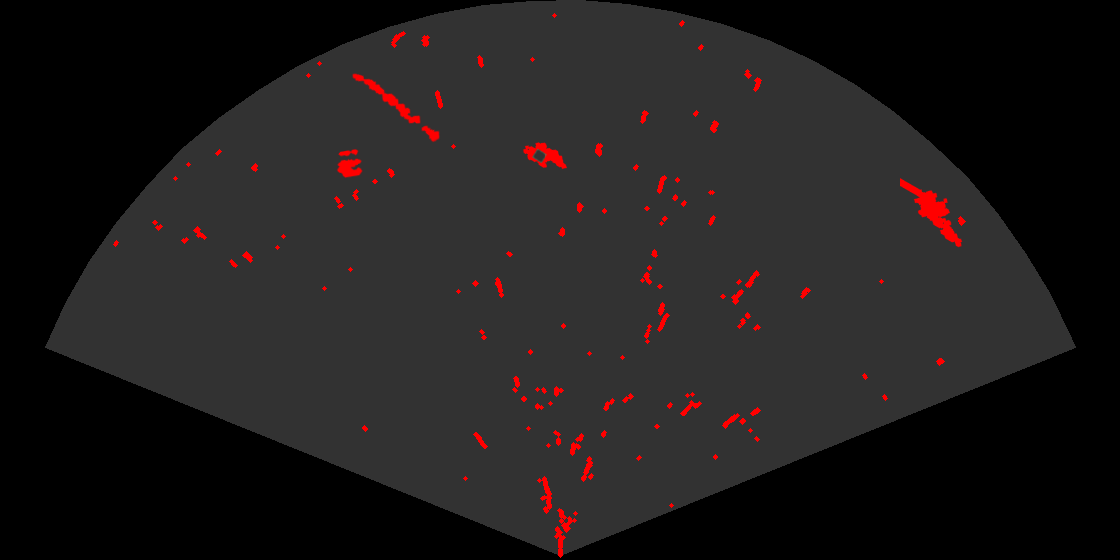AUV: (522, 141, 569, 171)
ball: (335, 148, 364, 180)
chain: (351, 72, 441, 144)
frogman: (900, 177, 964, 249)
